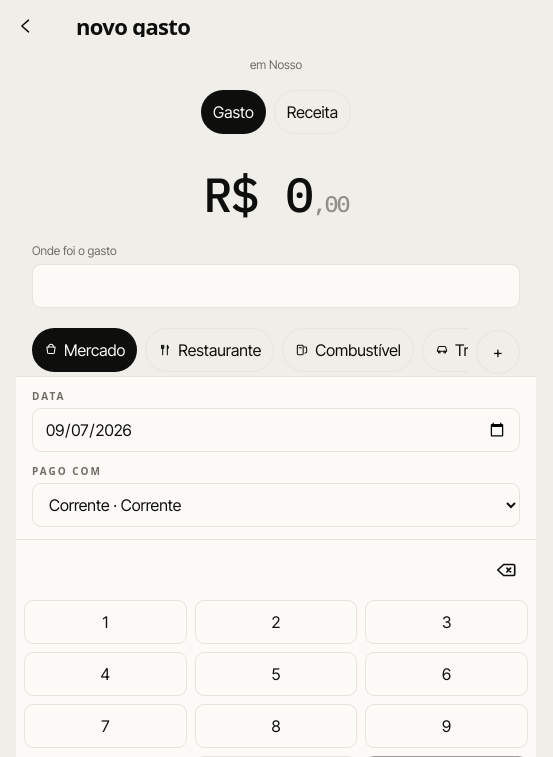
Test: Lancar › pede a descrição na tela principal, sem enterrar em mais opções
Expected: the field labelled "Onde foi o gasto" is shown, [32,264,520,308]
Expected: the dropdown named "Forma de pagamento" is shown, [32,483,520,527]
Step 1. Click the button "Receita" → click(312, 112), box [274,90,351,134]
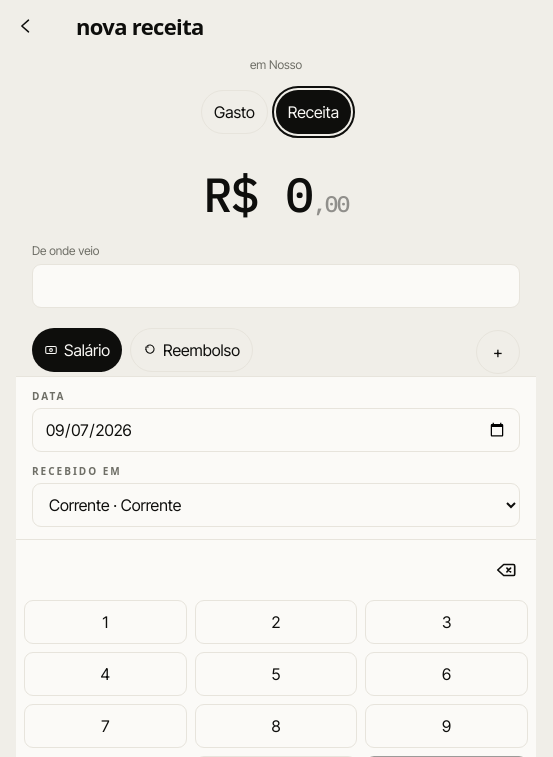
Expected: the field labelled "De onde veio" is shown, [32,264,520,308]
Expected: the label labelled "Onde foi o gasto" is gone
